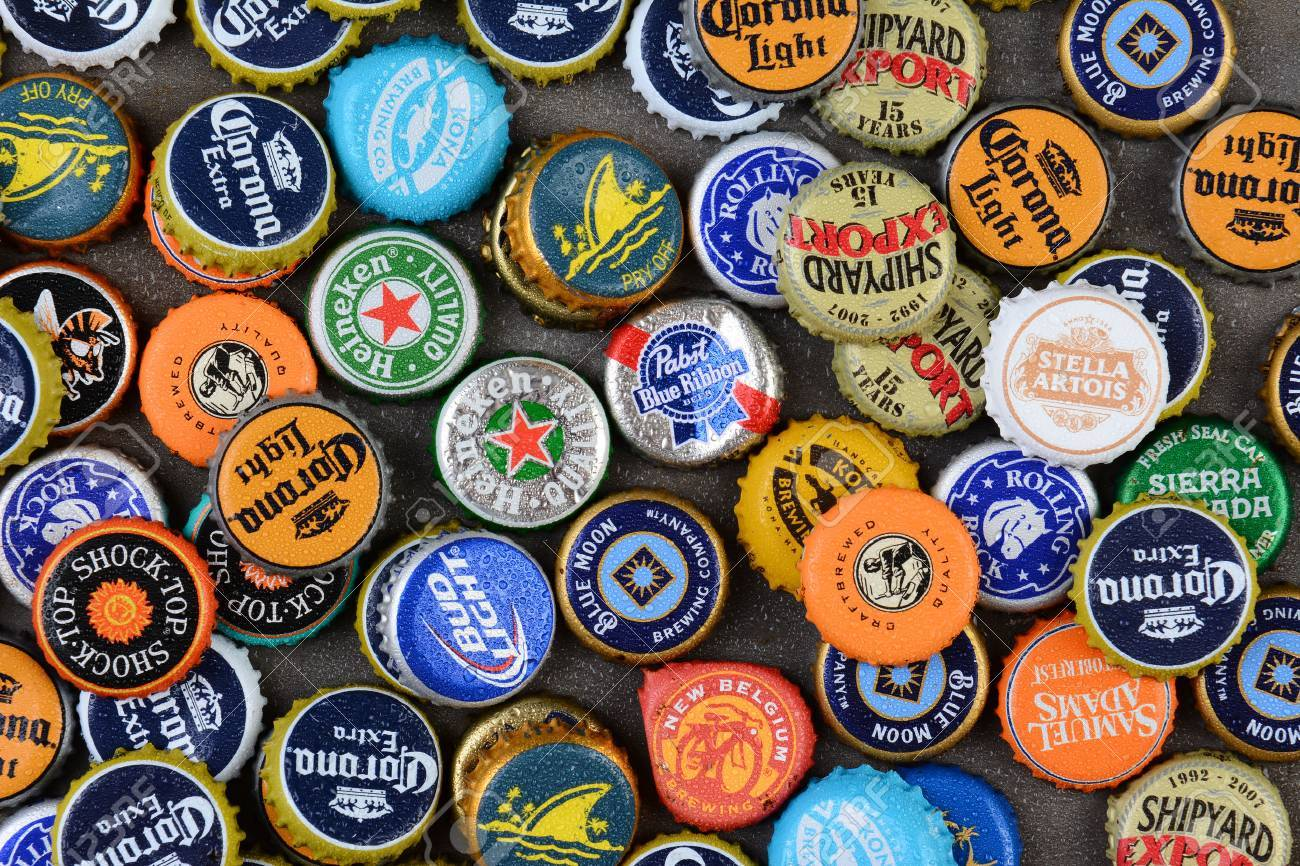corona: (1068, 492, 1261, 681), (152, 88, 341, 272), (263, 683, 451, 866), (52, 748, 234, 866)
heineken: (427, 355, 615, 536), (306, 223, 477, 400)
